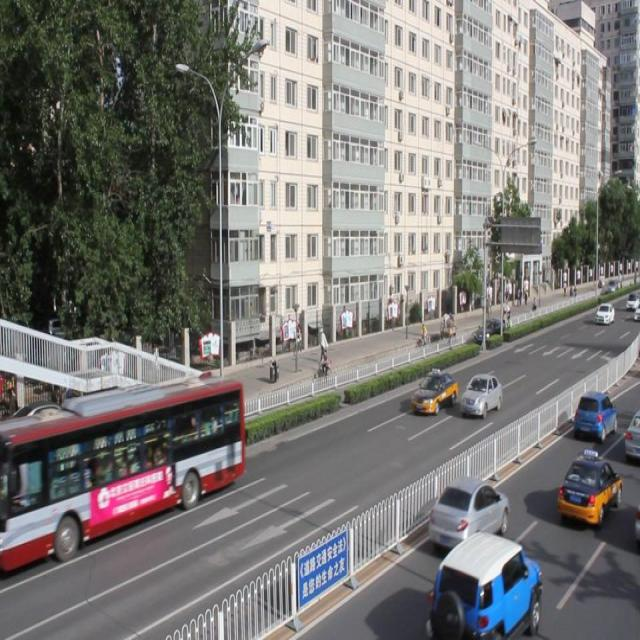car: (428, 532, 540, 640), (428, 474, 507, 552), (555, 451, 620, 524), (410, 370, 457, 416), (572, 388, 615, 438), (460, 372, 501, 414), (622, 407, 640, 458), (473, 317, 503, 344)
van: (1, 380, 242, 566)
